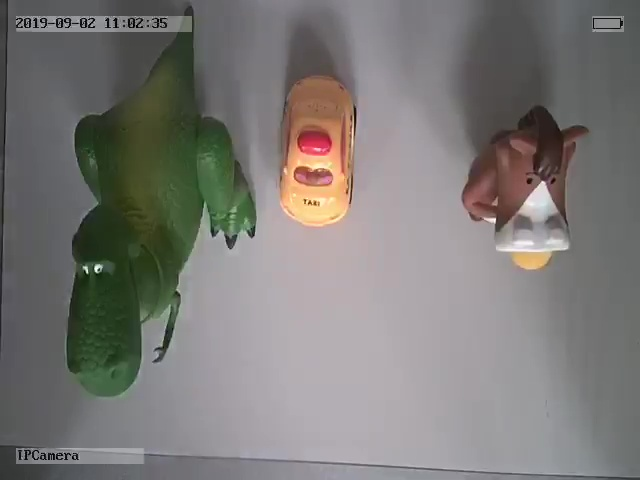car: (276, 67, 360, 232)
horse: (462, 102, 591, 275)
rex: (65, 33, 256, 397)
